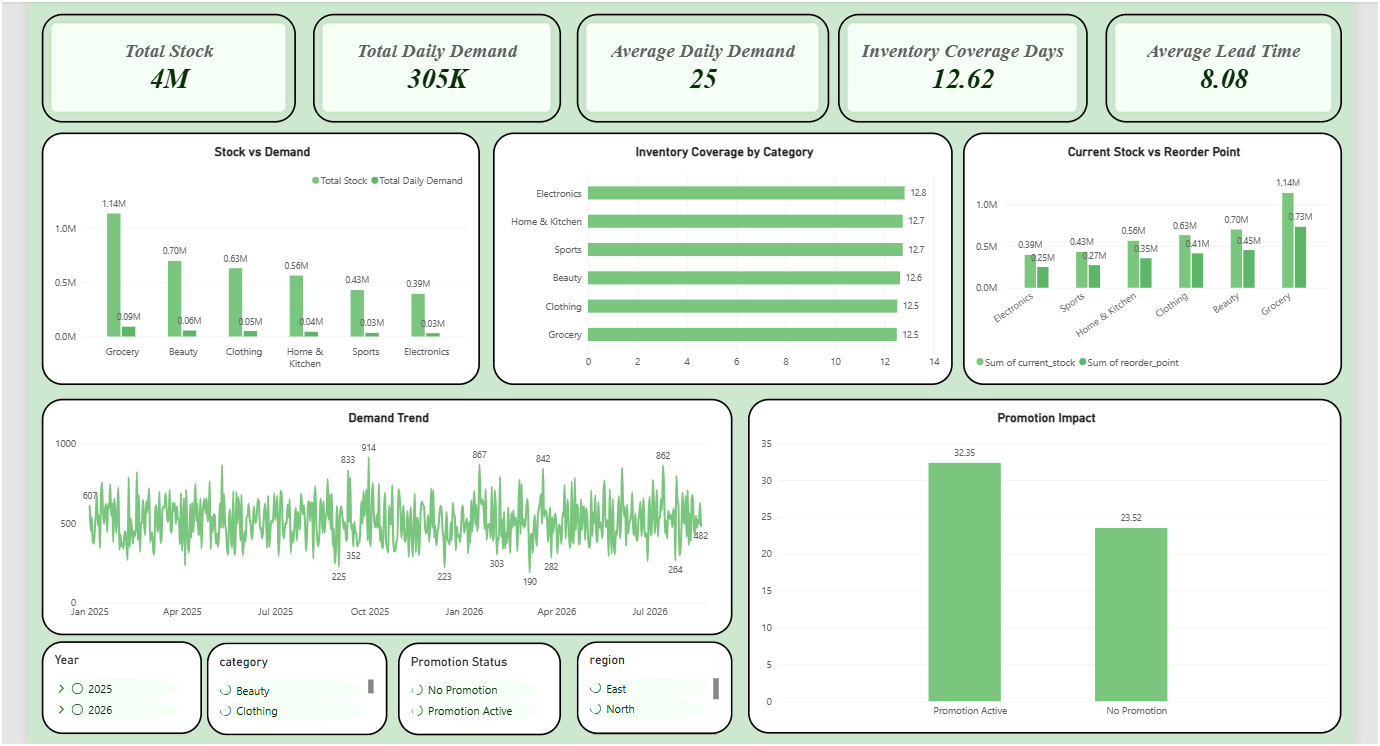

This screenshot's page, from the dashboard's own definition file:
{"tool":"powerbi","page":{"name":"📦 Inventory ","canvas":[1920,1080],"ordinal":2},"visuals":[{"type":"cardVisual","fields":{"Data":["inventory_demand_stockout_risk_dataset.Total Stock"]},"box":[19.1,19.1,368.1,157.4],"z":0},{"type":"cardVisual","fields":{"Data":["inventory_demand_stockout_risk_dataset.Total Daily Demand"]},"box":[412.8,19.1,359.6,157.4],"z":1000},{"type":"cardVisual","fields":{"Data":["inventory_demand_stockout_risk_dataset.Average Daily Demand"]},"box":[793.6,19.1,366,157.4],"z":2000},{"type":"cardVisual","fields":{"Data":["inventory_demand_stockout_risk_dataset.Inventory Coverage Days"]},"box":[1172.3,19.1,361.7,157.4],"z":3000},{"type":"cardVisual","fields":{"Data":["inventory_demand_stockout_risk_dataset.Average Lead Time"]},"box":[1559.6,19.1,342.6,157.4],"z":4000},{"type":"clusteredColumnChart","title":"Stock vs Demand","fields":{"Category":["inventory_demand_stockout_risk_dataset.category"],"Y":["inventory_demand_stockout_risk_dataset.Total Stock","inventory_demand_stockout_risk_dataset.Total Daily Demand"]},"box":[19.1,191.5,634,366],"z":5000},{"type":"barChart","title":"Inventory Coverage by Category","fields":{"Category":["inventory_demand_stockout_risk_dataset.category"],"Y":["inventory_demand_stockout_risk_dataset.Average Inventory Days"]},"box":[672.3,191.5,666,366],"z":6000},{"type":"clusteredColumnChart","title":"Current Stock vs Reorder Point","fields":{"Category":["inventory_demand_stockout_risk_dataset.category"],"Y":["Sum(inventory_demand_stockout_risk_dataset.current_stock)","Sum(inventory_demand_stockout_risk_dataset.reorder_point)"]},"box":[1353.2,191.5,548.9,366],"z":7000},{"type":"lineChart","title":"Demand Trend","fields":{"Y":["inventory_demand_stockout_risk_dataset.Total Daily Demand"],"Category":["inventory_demand_stockout_risk_dataset.date"]},"box":[19.1,576.6,1000,342.6],"z":8000},{"type":"clusteredColumnChart","title":"Promotion Impact","fields":{"Y":["Avg(inventory_demand_stockout_risk_dataset.daily_demand)"],"Category":["inventory_demand_stockout_risk_dataset.Promotion Status"]},"box":[1042.6,576.6,859.6,485.1],"z":9000},{"type":"listSlicer","fields":{"Values":["inventory_demand_stockout_risk_dataset.date.Variation.Date Hierarchy.Year","inventory_demand_stockout_risk_dataset.date.Variation.Date Hierarchy.Quarter","inventory_demand_stockout_risk_dataset.date.Variation.Date Hierarchy.Month","inventory_demand_stockout_risk_dataset.date.Variation.Date Hierarchy.Day"]},"box":[19.1,927.7,231.9,134],"z":10000},{"type":"listSlicer","fields":{"Values":["inventory_demand_stockout_risk_dataset.category"]},"box":[259.6,929.8,261.7,134],"z":11000},{"type":"listSlicer","fields":{"Values":["inventory_demand_stockout_risk_dataset.Promotion Status"]},"box":[536.2,929.8,236.2,134],"z":12000},{"type":"listSlicer","fields":{"Values":["inventory_demand_stockout_risk_dataset.region"]},"box":[793.6,927.7,225.5,134],"z":13000}]}

Visuals, with their boxes in screenshot pixels (x1, y1, x2, y2):
cardVisual - inventory_demand_stockout_risk_dataset.Total Stock: 45,17,297,124
cardVisual - inventory_demand_stockout_risk_dataset.Total Daily Demand: 314,17,560,124
cardVisual - inventory_demand_stockout_risk_dataset.Average Daily Demand: 574,17,824,124
cardVisual - inventory_demand_stockout_risk_dataset.Inventory Coverage Days: 833,17,1079,124
cardVisual - inventory_demand_stockout_risk_dataset.Average Lead Time: 1097,17,1331,124
"Stock vs Demand" clusteredColumnChart: 45,134,478,384
"Inventory Coverage by Category" barChart: 491,134,946,384
"Current Stock vs Reorder Point" clusteredColumnChart: 956,134,1331,384
"Demand Trend" lineChart: 45,397,728,631
"Promotion Impact" clusteredColumnChart: 744,397,1331,728
listSlicer - inventory_demand_stockout_risk_dataset.date.Variation.Date Hierarchy.Year x inventory_demand_stockout_risk_dataset.date.Variation.Date Hierarchy.Quarter: 45,637,204,728
listSlicer - inventory_demand_stockout_risk_dataset.category: 210,638,388,730
listSlicer - inventory_demand_stockout_risk_dataset.Promotion Status: 398,638,560,730
listSlicer - inventory_demand_stockout_risk_dataset.region: 574,637,728,728
